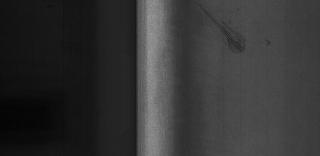water spot: (192, 0, 274, 56)
